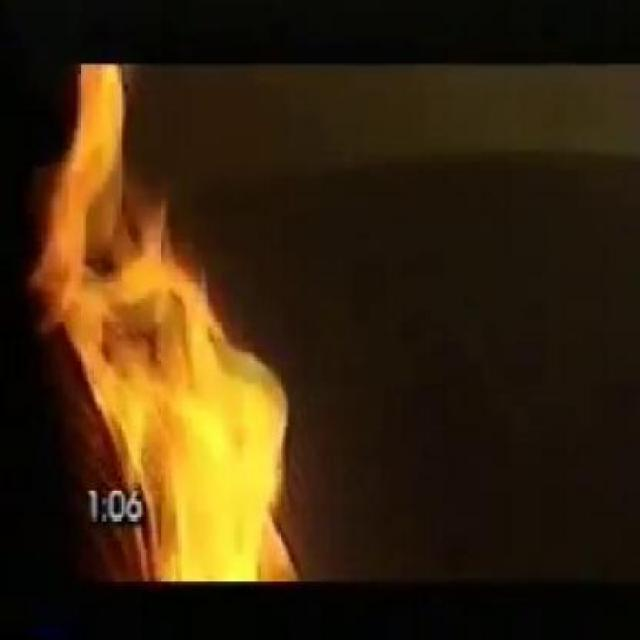fire: (48, 64, 298, 576)
